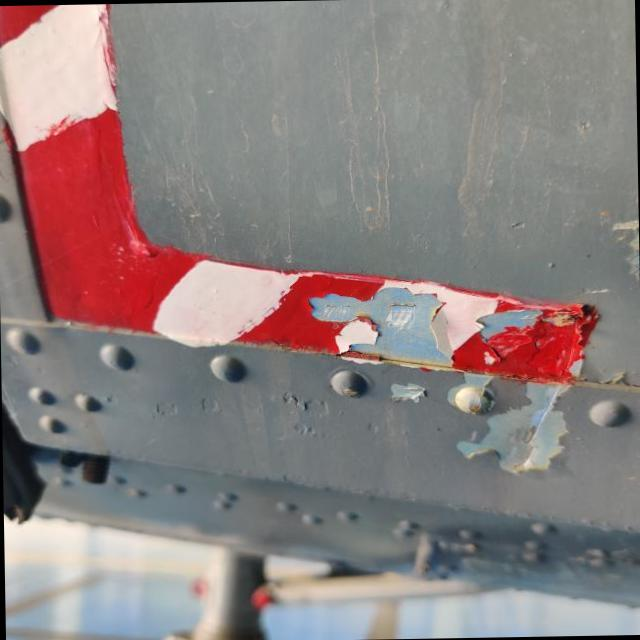Paint-off: (315, 276, 601, 388), (456, 388, 593, 479)
